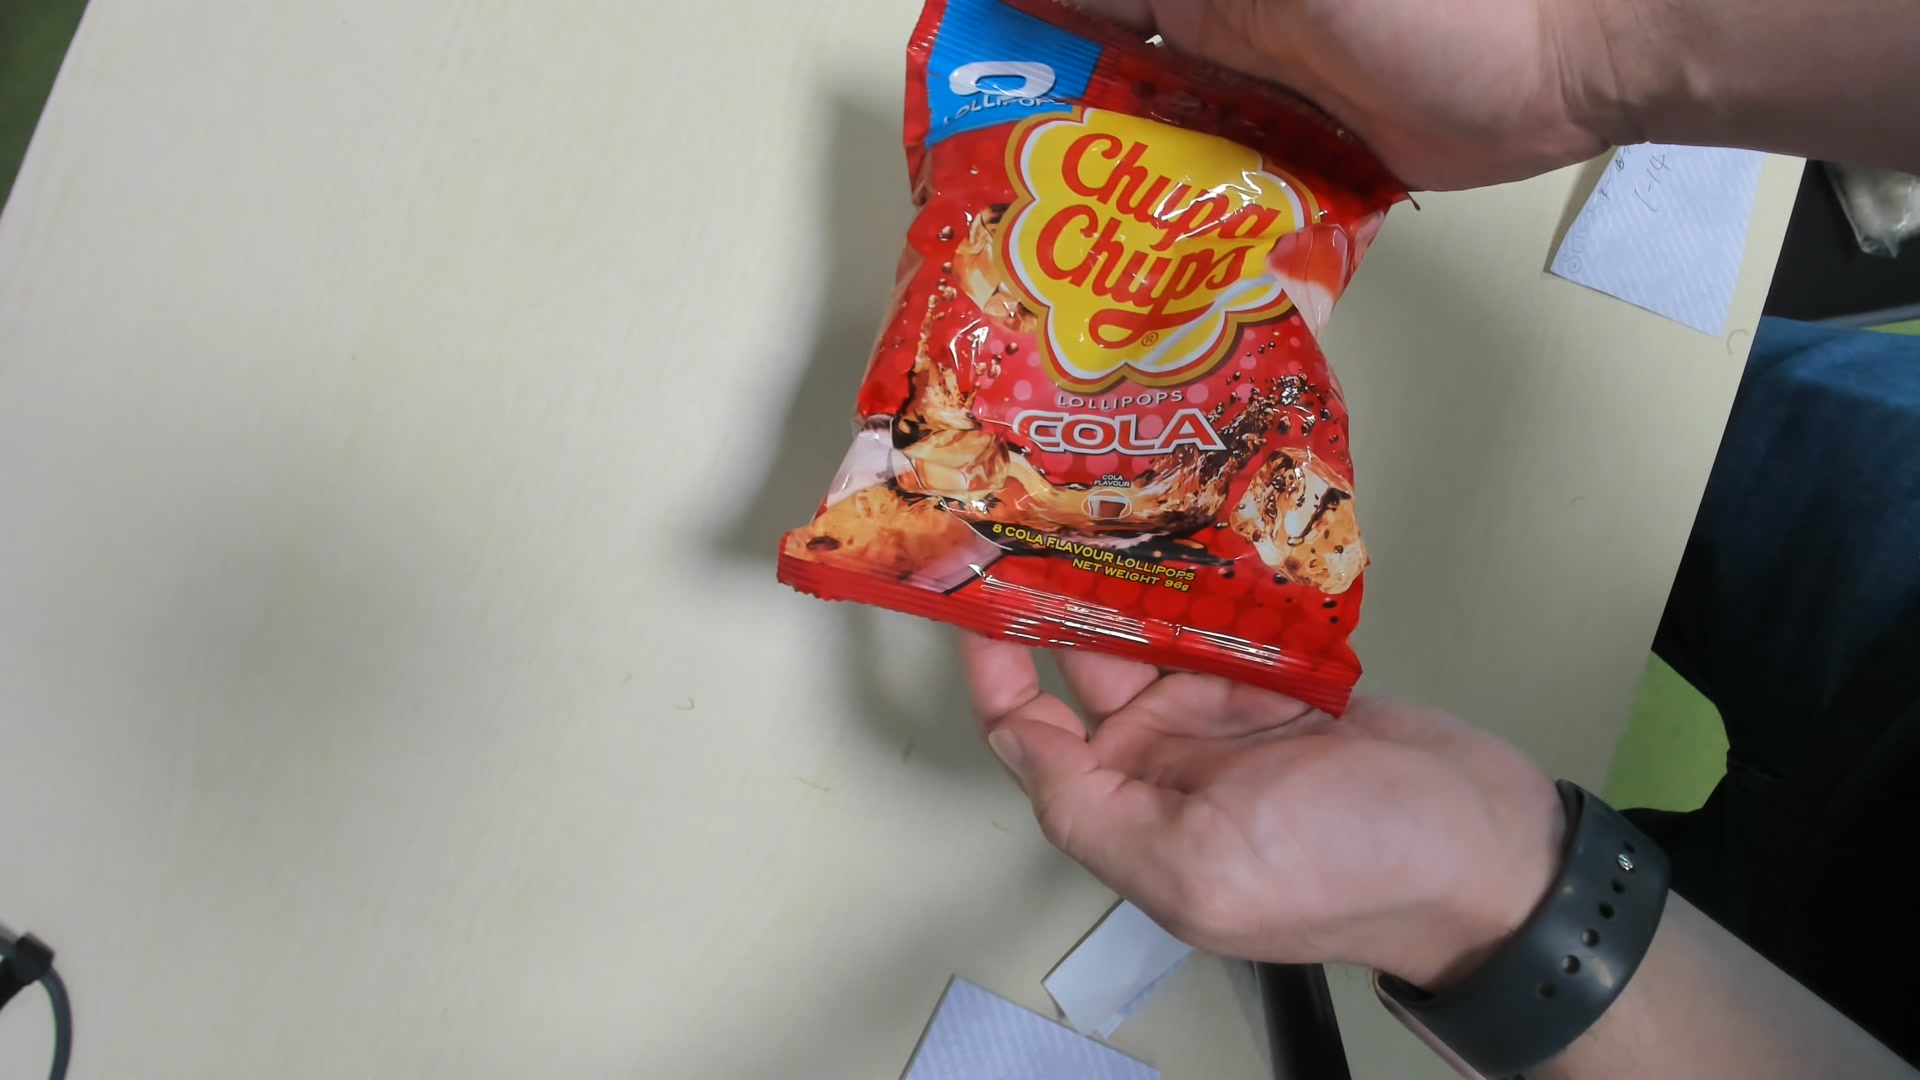SweetsChocolatesOthers_0-99g_NonHalal_Nonhealthy: (770, 7, 1379, 713)
